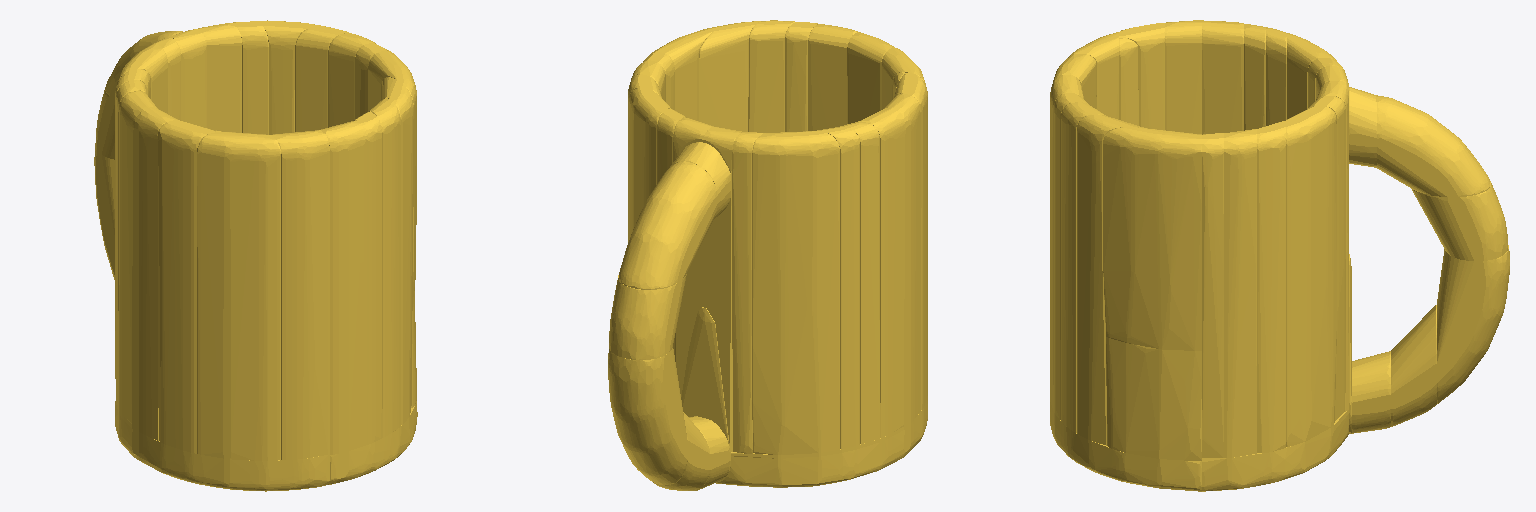
The robot description file, URDF, robot "123.urdf":
<?xml version="1.0" ?>
<robot name="123.urdf">
	<link name="baseLink">
		<inertial>
			<origin rpy="0 0 0" xyz="0 0 0"/>
				<mass value="0.1"/>
				<inertia ixx="6e-5" ixy="0" ixz="0" iyy="6e-5" iyz="0" izz="6e-5"/>
		</inertial>
		<visual>
			<origin rpy="0 0 0" xyz="0 0 0"/>
			<geometry>
				<mesh filename="11_decom_wt.obj" scale="0.84 0.84 0.94"/>
			</geometry>
			<material name="yellow">
				<color rgba="0.98 0.84 0.35 1"/>
			</material>
		</visual>
		<collision>
			<origin rpy="0 0 0" xyz="0 0 0"/>
			<geometry>
				<mesh filename="11_decom_wt.obj" scale="0.84 0.84 0.94"/>
			</geometry>
		</collision>
	</link>
</robot>

--- Render facts (derived) ---
The picture shows the robot from 3 angles, left to right: view 1: azimuth 30°, elevation 25°; view 2: azimuth 150°, elevation 25°; view 3: azimuth 270°, elevation 25°; orthographic projection.
Robot: 123.urdf — 1 links, 0 joints (none); root link baseLink; default pose: all joints at 0.
Links seen in each view (by area): view 1: baseLink; view 2: baseLink; view 3: baseLink.
Link boxes in pixels (x1=…): baseLink: x1=94, y1=20, x2=417, y2=491; baseLink: x1=608, y1=20, x2=927, y2=490; baseLink: x1=1050, y1=20, x2=1509, y2=491.
Bounding box of the posed robot: 0.0823 × 0.1256 × 0.106 m (x, y, z).
1 mesh visuals loaded from 1 distinct referenced files (1 OBJ).